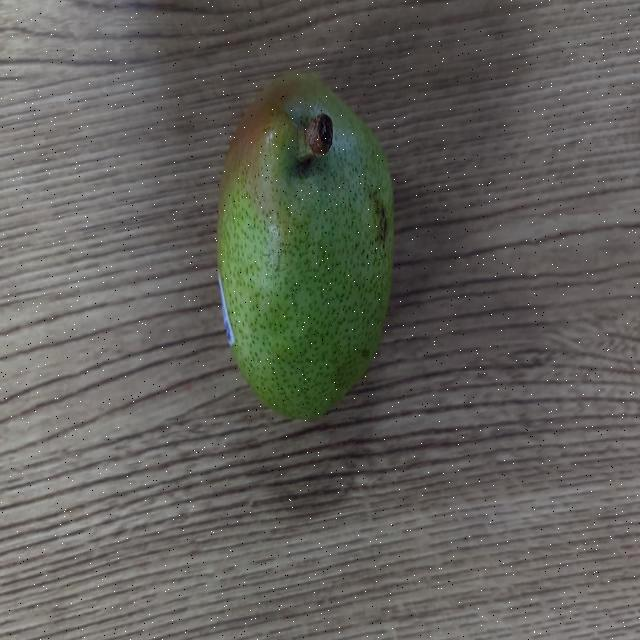Pir: (210, 53, 404, 433)
